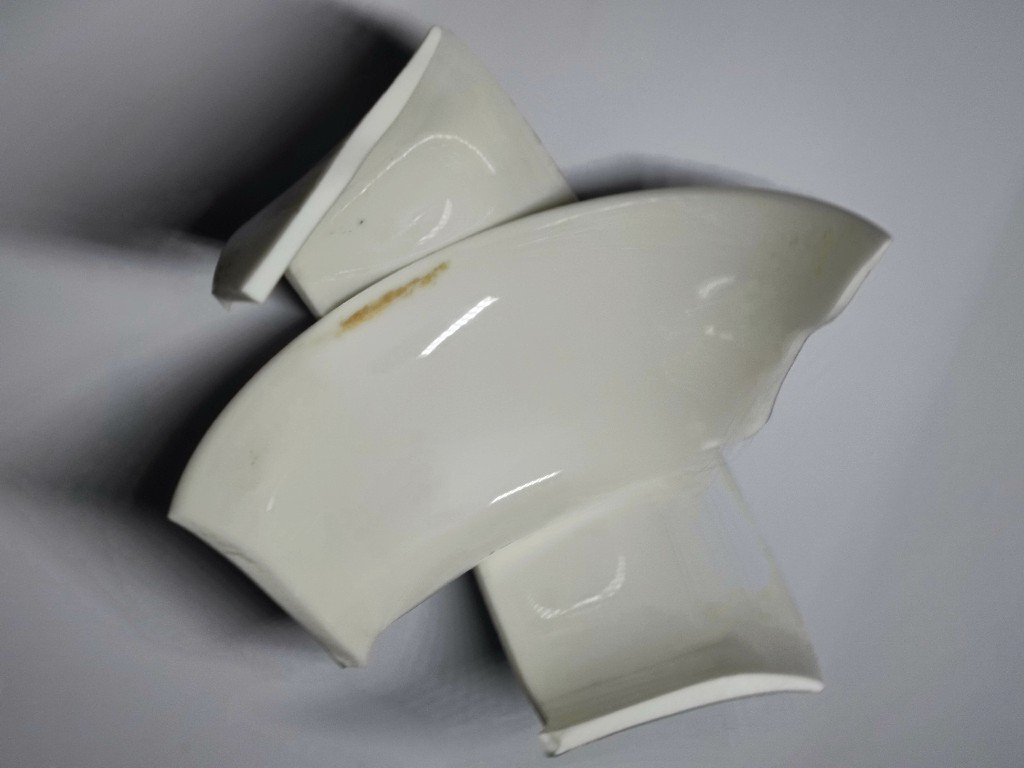ceramics: (151, 23, 899, 759)
